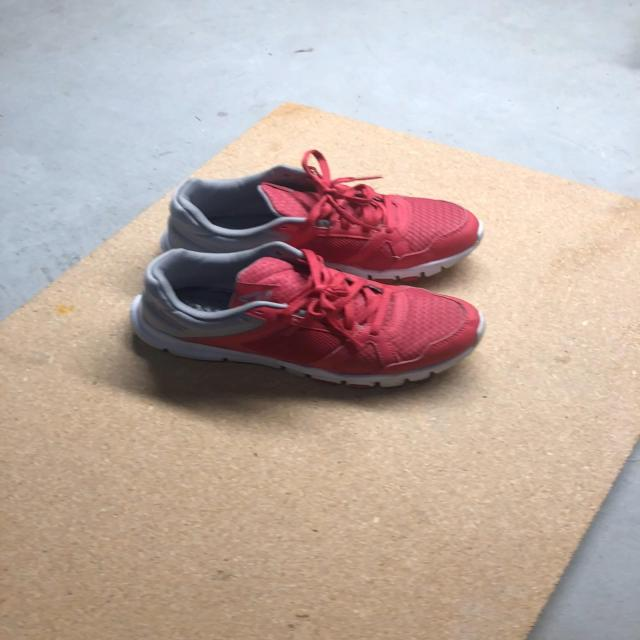shoe: (133, 252, 482, 373), (257, 152, 485, 285)
